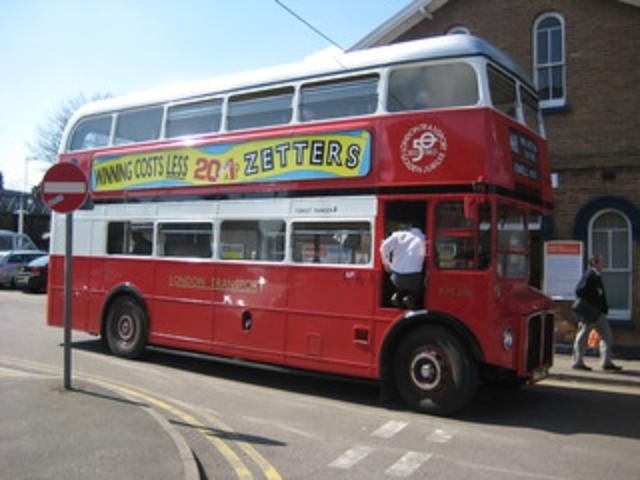bus: (44, 34, 556, 414)
